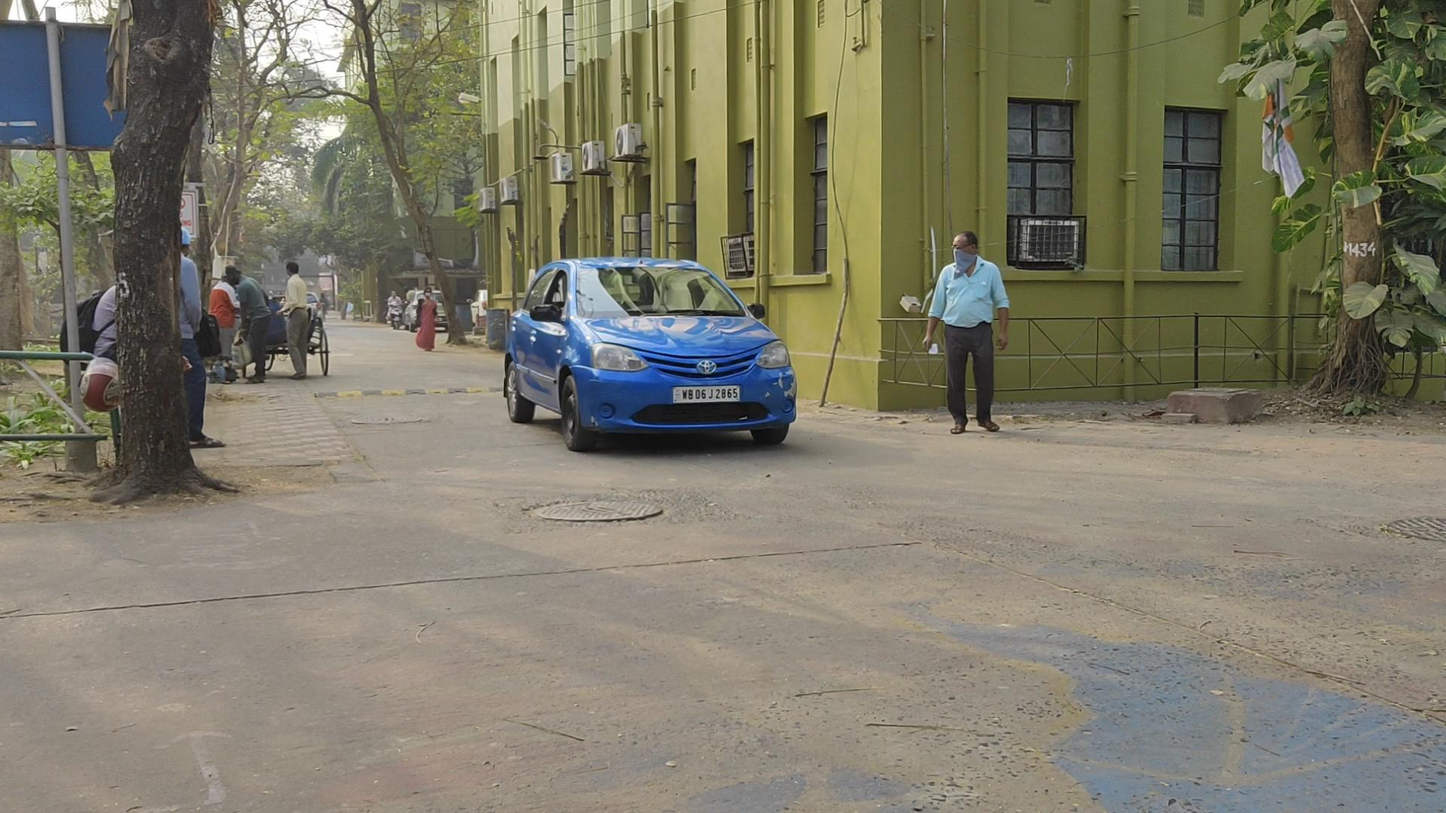bike: (386, 290, 406, 333)
car: (503, 257, 797, 452), (403, 290, 448, 332)
